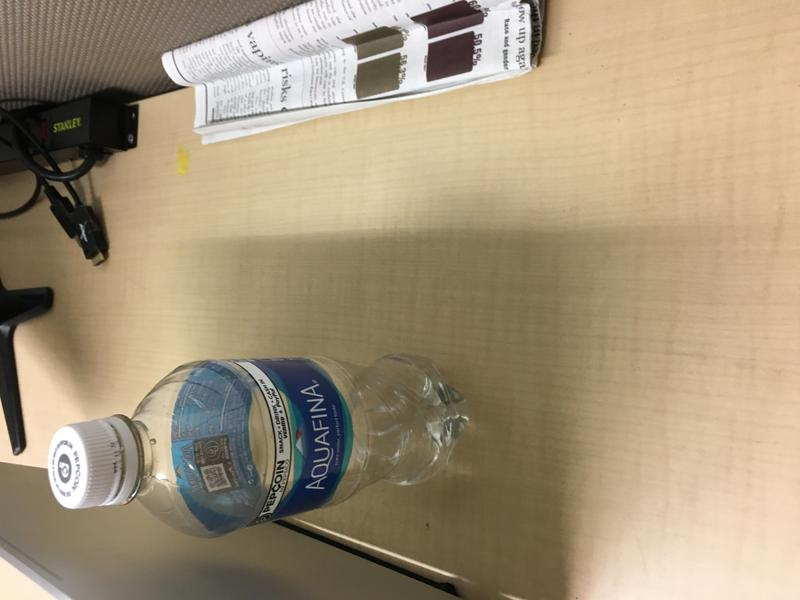bottle: (47, 352, 469, 543)
